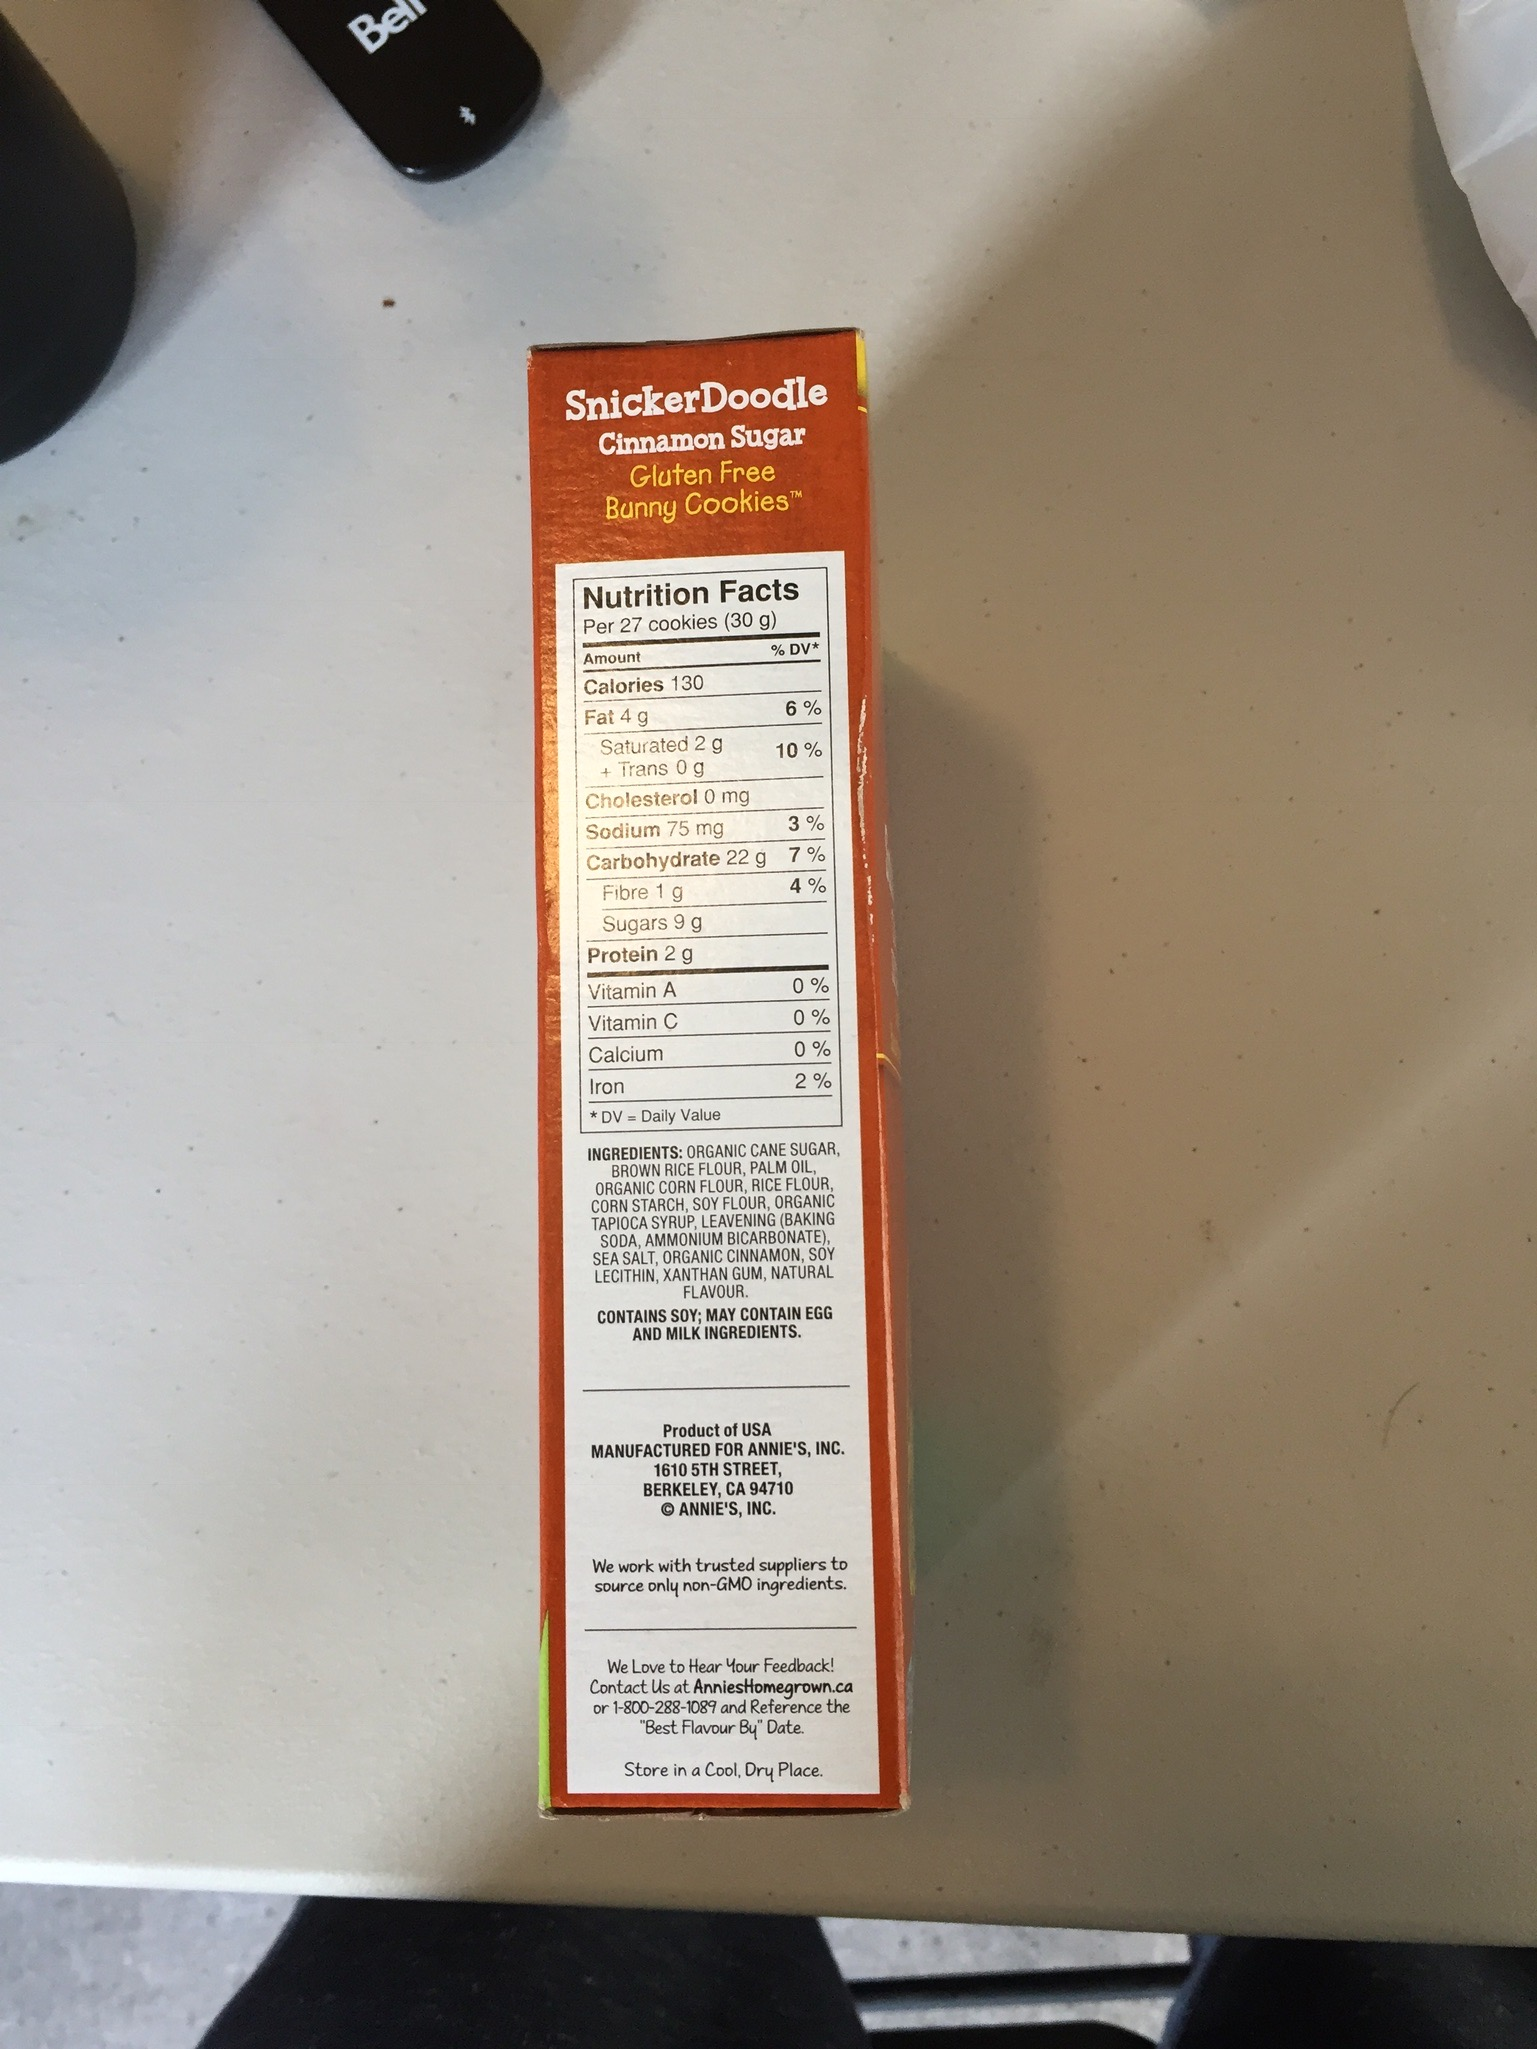annies_snickerdoodle_cinnamon_sugar: (542, 367, 896, 1805)
